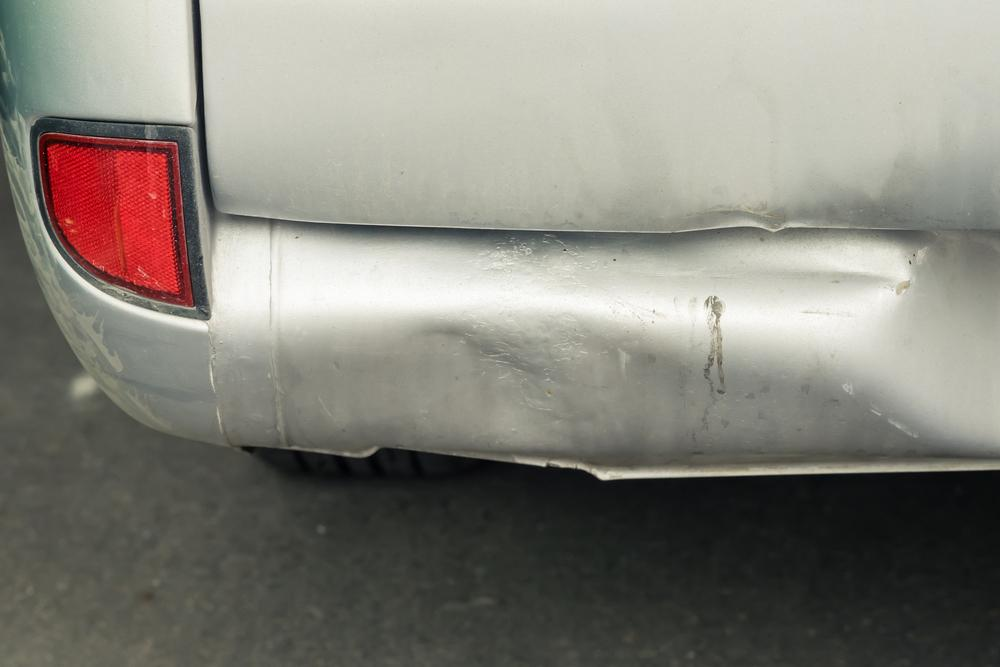dent: (407, 319, 687, 449), (862, 240, 1000, 446)
